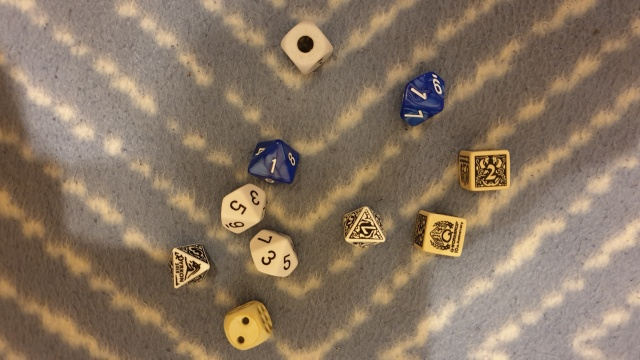d10-1: (392, 65, 458, 133), (243, 131, 304, 188)
d10-3: (245, 226, 304, 283)
d10-5: (212, 181, 274, 237)
d6-1: (278, 16, 337, 80)
d6-2: (221, 298, 277, 353)
d6p-2: (455, 145, 513, 194)
d6p-6: (409, 206, 468, 261)
d8p-1: (166, 238, 213, 292)
d8p-7: (338, 204, 390, 253)
